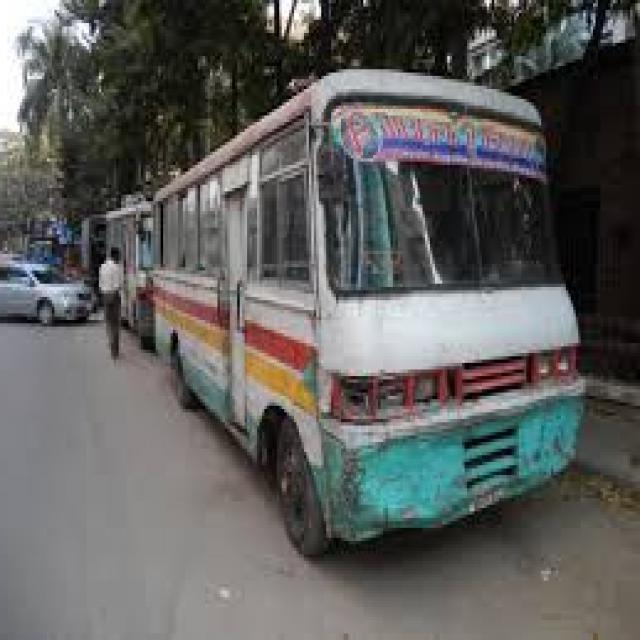Bus: (137, 81, 575, 564)
